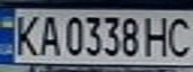0: (60, 12, 84, 57)
3: (100, 12, 124, 59), (81, 12, 106, 57)
8: (118, 14, 145, 58)
A: (36, 11, 63, 57)
C: (163, 14, 193, 58)
H: (142, 14, 175, 58)
K: (9, 11, 42, 57)
